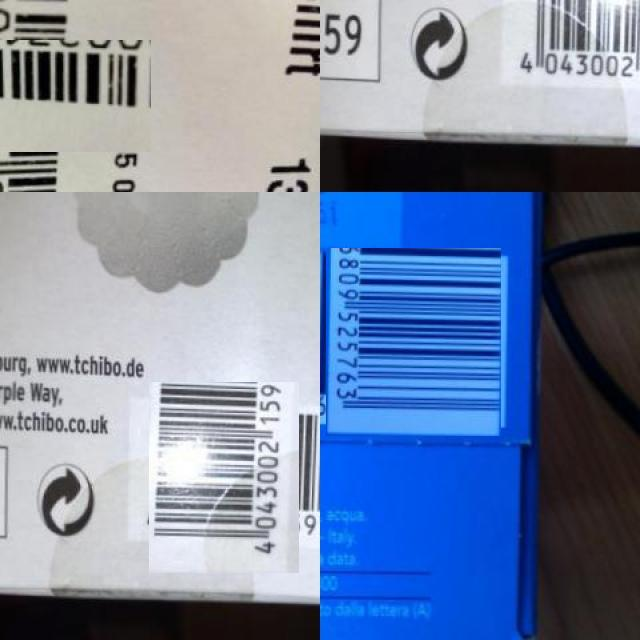Barcode: (323, 250, 505, 432), (138, 392, 310, 564), (0, 20, 132, 172), (502, 0, 640, 98)
